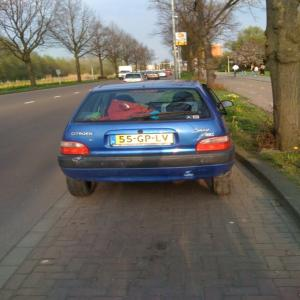Vehicle-registration-plate: (108, 134, 175, 148)
